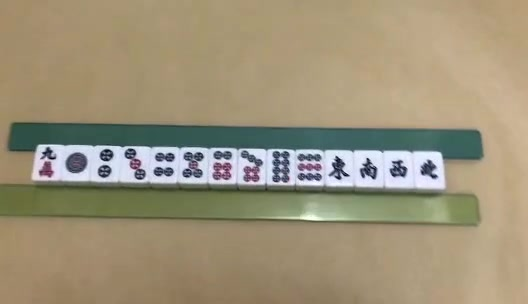1p: (66, 153, 87, 175)
1z: (331, 156, 348, 181)
2p: (99, 149, 112, 177)
2z: (361, 159, 377, 181)
3p: (125, 149, 146, 180)
3z: (389, 159, 408, 179)
4p: (154, 152, 173, 178)
4z: (419, 158, 437, 180)
5p: (183, 151, 202, 178)
6p: (214, 150, 232, 181)
7p: (241, 151, 262, 183)
8p: (273, 151, 290, 182)
9m: (39, 147, 57, 178)
9p: (297, 153, 321, 181)
